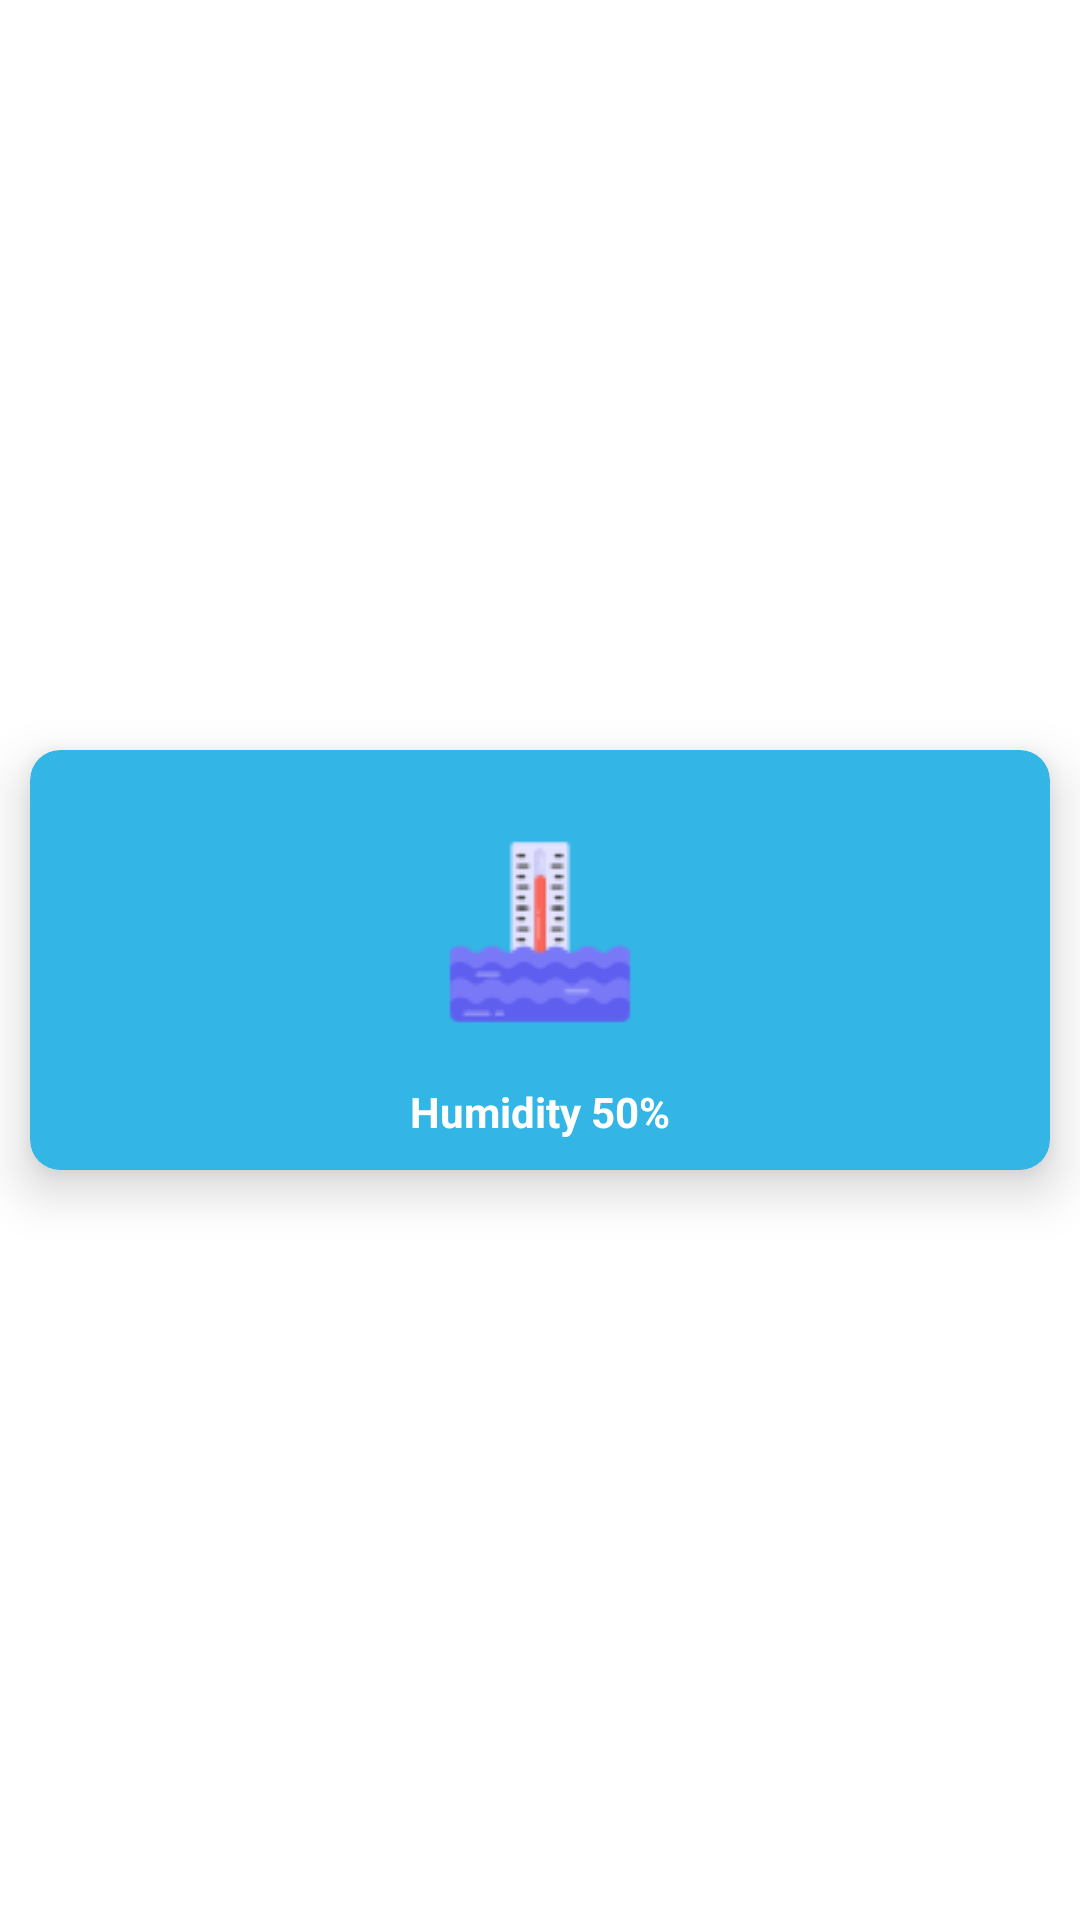

Named icons in this screenshot (1080×1920) and their centers, (x=x, y=y):
waterlevel: (x=540, y=932)
